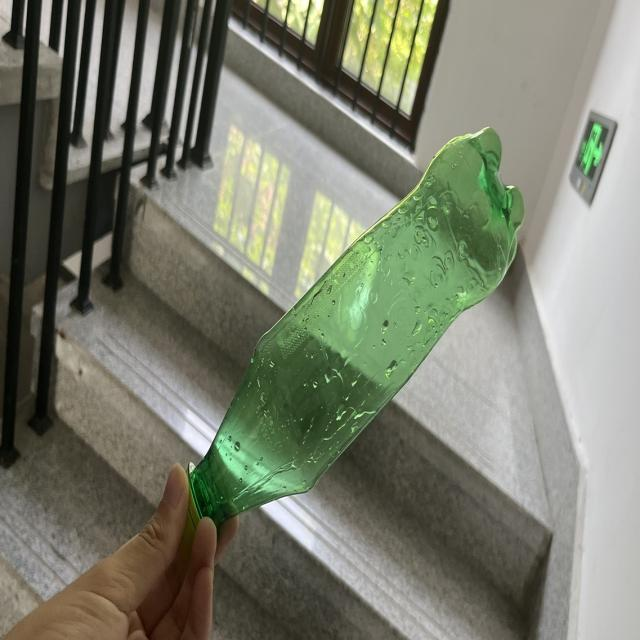empty: (183, 128, 523, 545)
